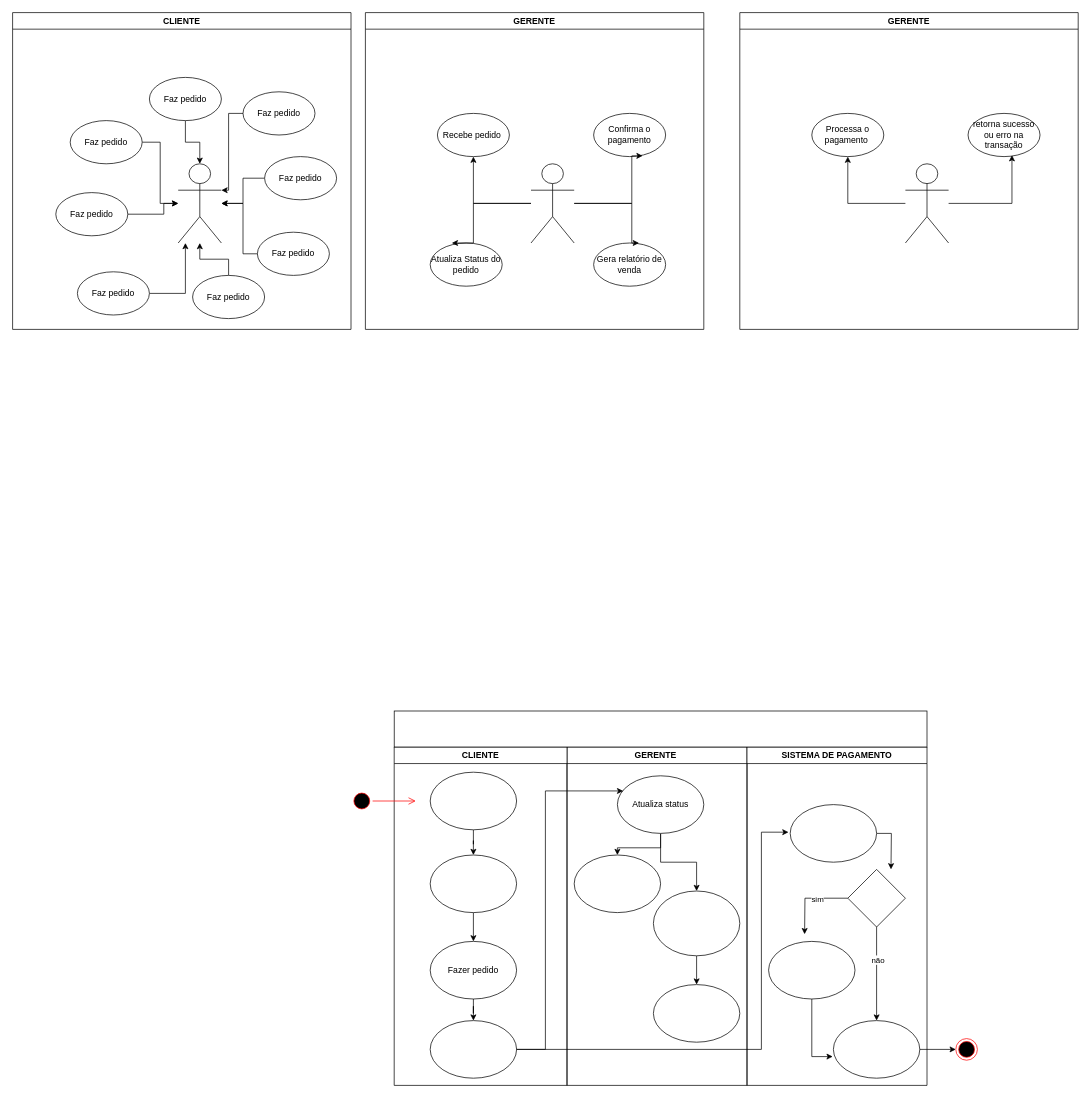
Some shapes in this 1091 by 1098 pixel diagram are drawn without their labels. The box of each missing label's shape, as (x1, y1, x2, y2) in pixels:
Aceitar pedido: (653, 890, 740, 956)
Cadastrar cartão de crédito ou débito: (789, 804, 877, 862)
Cancelar pedido: (573, 854, 661, 913)
Efetuar pagamento: (833, 1020, 920, 1078)
Escolher sabores: (429, 854, 517, 913)
Fazer login/Cadastro: (429, 771, 517, 830)
Informações de PIX: (768, 941, 855, 999)
Preparar pedido: (653, 984, 740, 1042)
Receber confirmação: (429, 1020, 517, 1078)
SISTEMA DE PEDIDOS DE PIZZARIA ONLINE: (393, 710, 927, 747)
É pix?: (847, 869, 905, 927)
